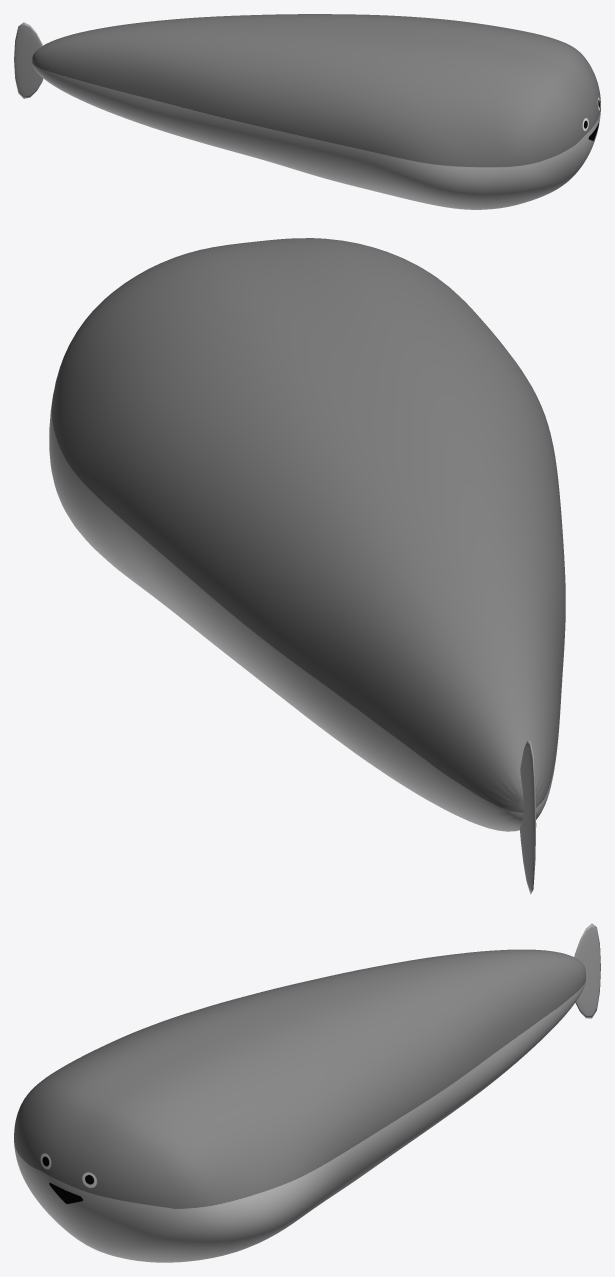
The model's file is basu.fbx.
3 renders of one model, top to bottom at view 1: azimuth 30°, elevation 25°; view 2: azimuth 150°, elevation 25°; view 3: azimuth 270°, elevation 25°, orthographic. The views are drawn at different scales.
Parts seen in each view (by area): view 1: pSphere2; view 2: pSphere2; view 3: pSphere2.
Boxes of the visible parts, <box> form: pSphere2: <box>14,14,600,209</box>; pSphere2: <box>49,238,565,894</box>; pSphere2: <box>14,923,600,1262</box>.
Bounding box in the file's own units: 26.13 × 9.86 × 26.59.
2 materials, 1 textured.
